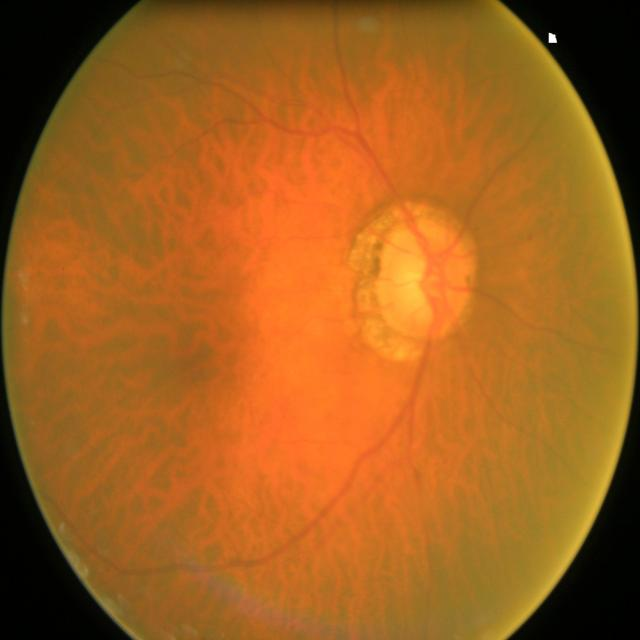OC: (404, 270, 422, 297)
OD: (379, 218, 467, 338)
